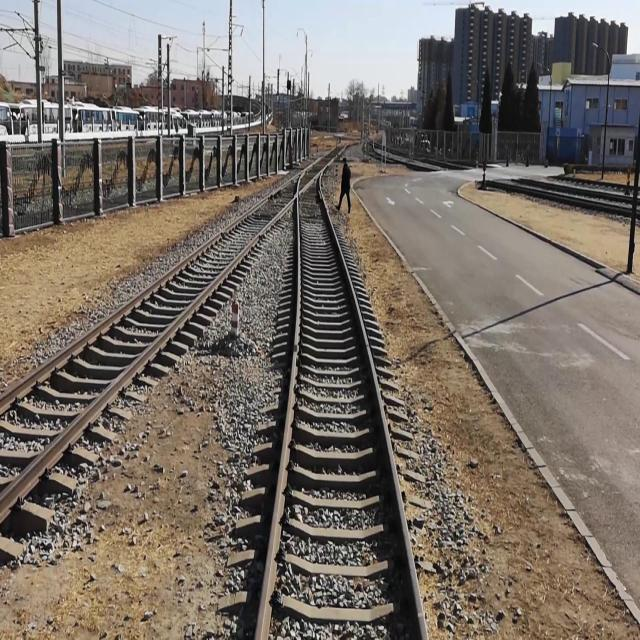danger: (329, 149, 357, 220)
rail: (0, 143, 348, 523), (0, 146, 338, 417), (319, 171, 429, 640), (254, 171, 306, 640)
